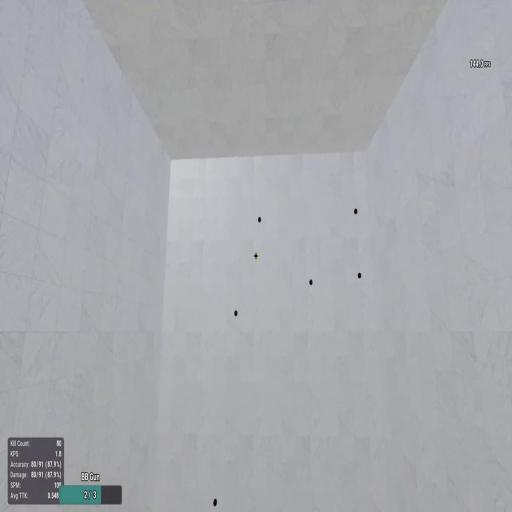Crosshair: (254, 252, 258, 261)
Target: (214, 497, 218, 506), (354, 207, 358, 215), (358, 272, 362, 280), (309, 279, 313, 287), (234, 310, 238, 317), (258, 216, 261, 224)
